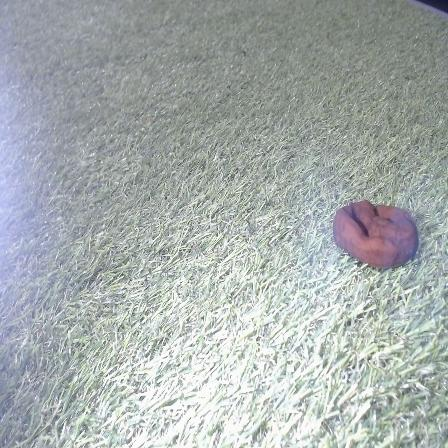dog-poop: (329, 191, 422, 275)
